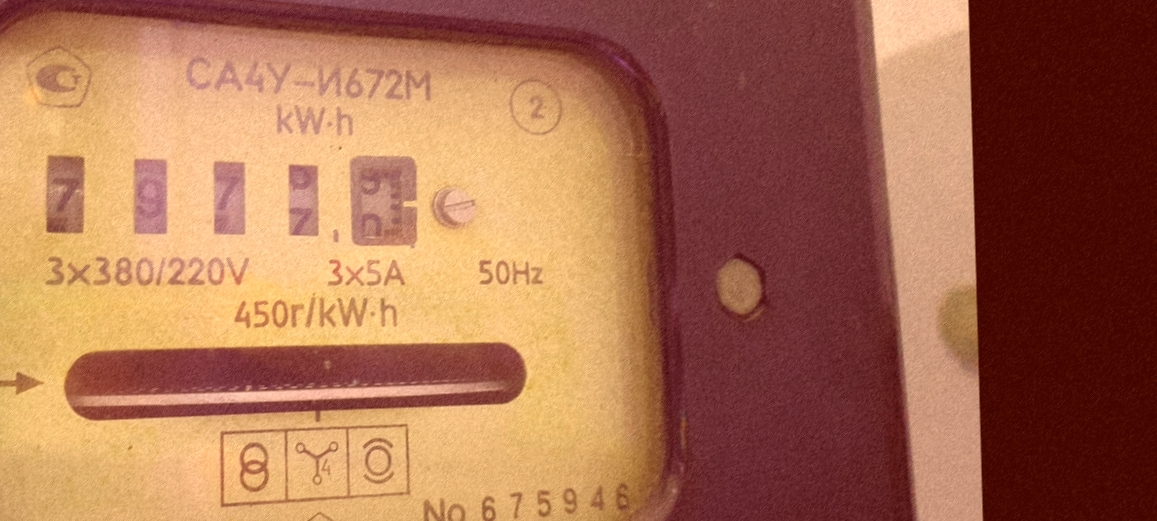0: (360, 208, 384, 237)
7: (48, 171, 83, 217), (287, 197, 318, 239), (214, 170, 243, 212)
9: (134, 173, 166, 221), (357, 164, 388, 197)
screen: (32, 131, 436, 269)
